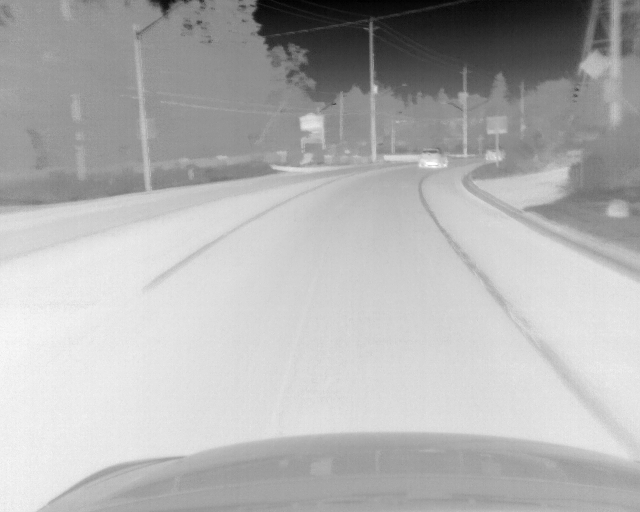car: (418, 148, 448, 169), (484, 147, 504, 162)
